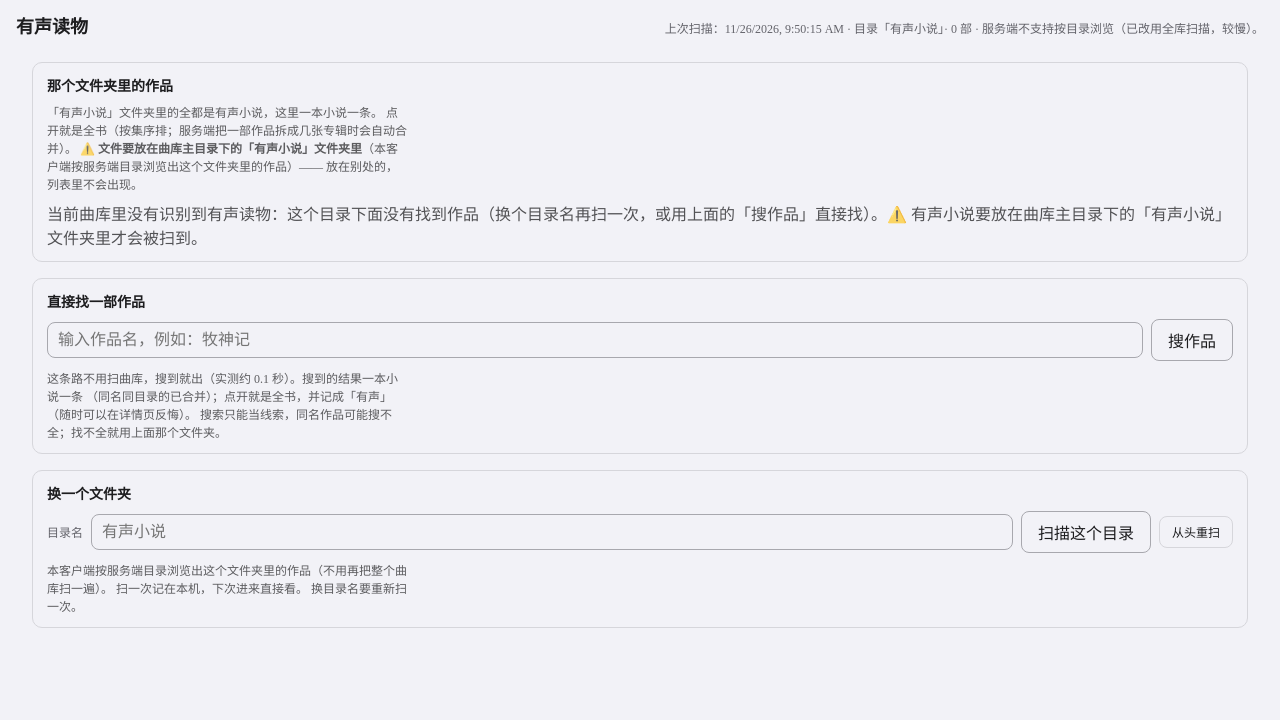
it: AudiobooksPage（有声读物页） › ⑥ 「搜作品」⇒ 打专辑搜索并列出结果（**搜索本身**不触发扫描）
This screenshot has width=1280, height=720.
Type "牧神记" into the field with placeholder "输入作品名，例如：牧神记" at (595, 340), box [47, 322, 1143, 358]
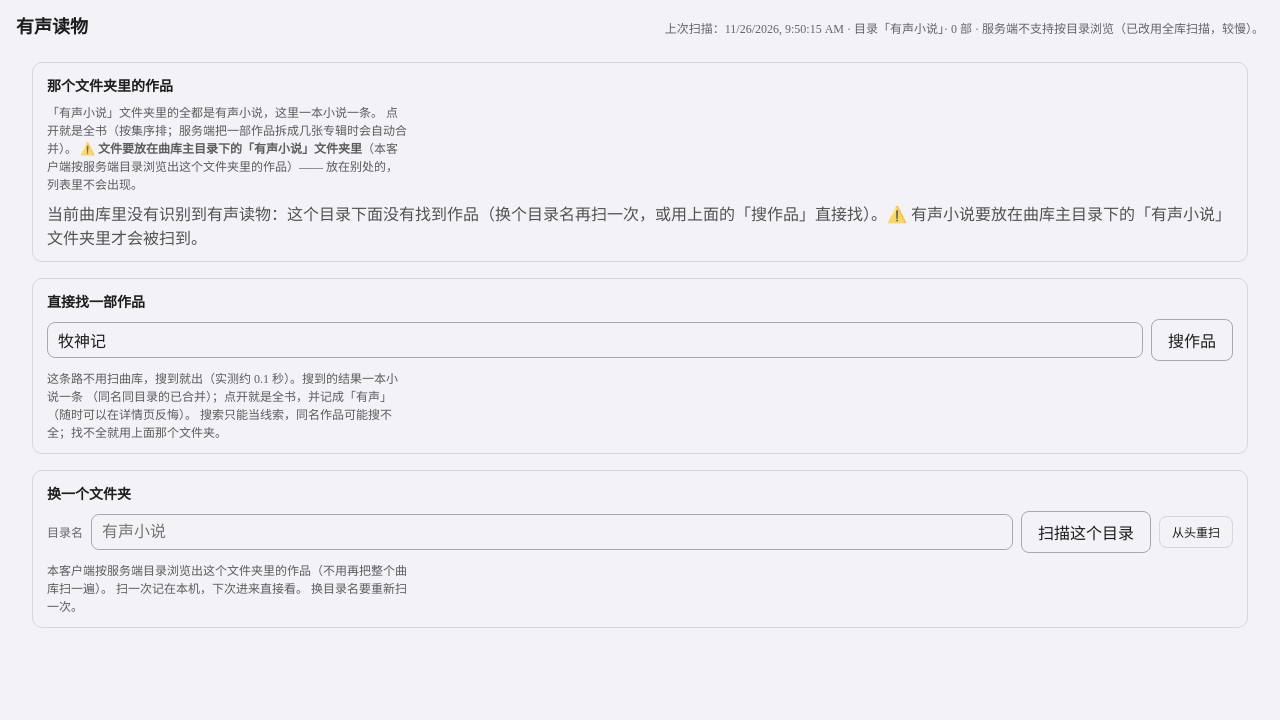
Click the button "搜作品" at (1192, 340), box [1151, 319, 1233, 361]
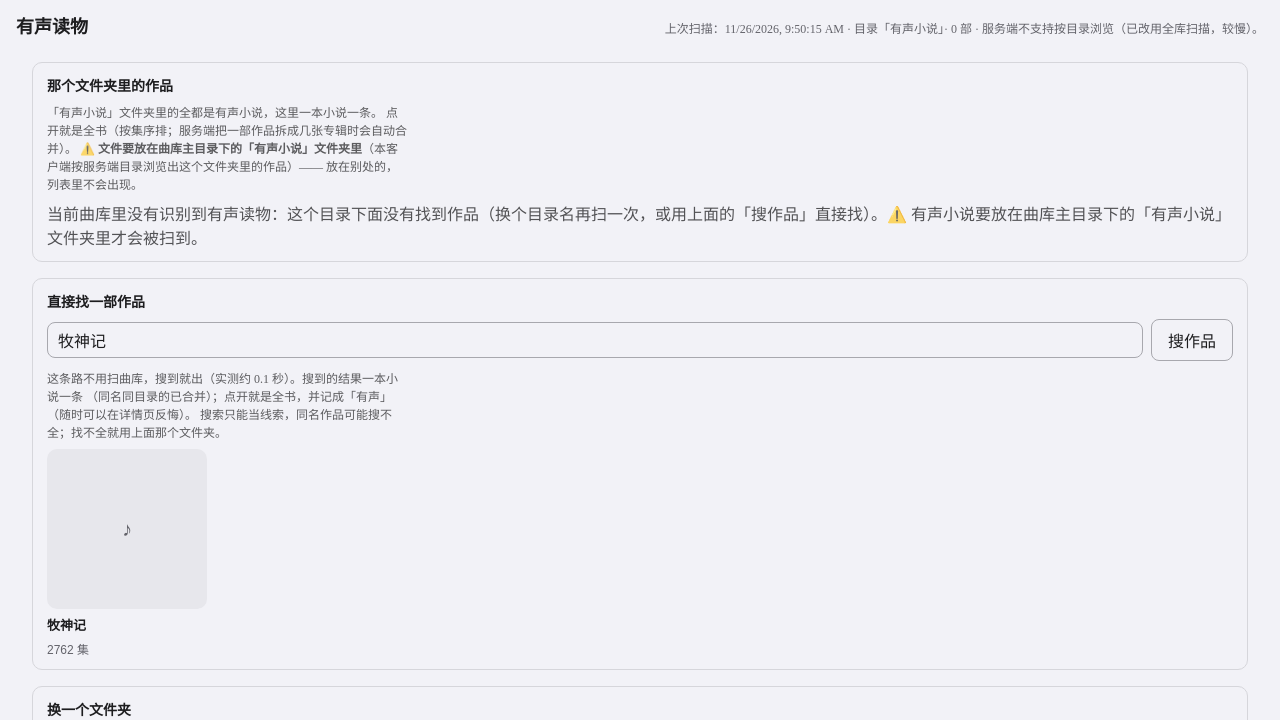
expect the text "牧神记" is shown: met, box [47, 615, 86, 634]
